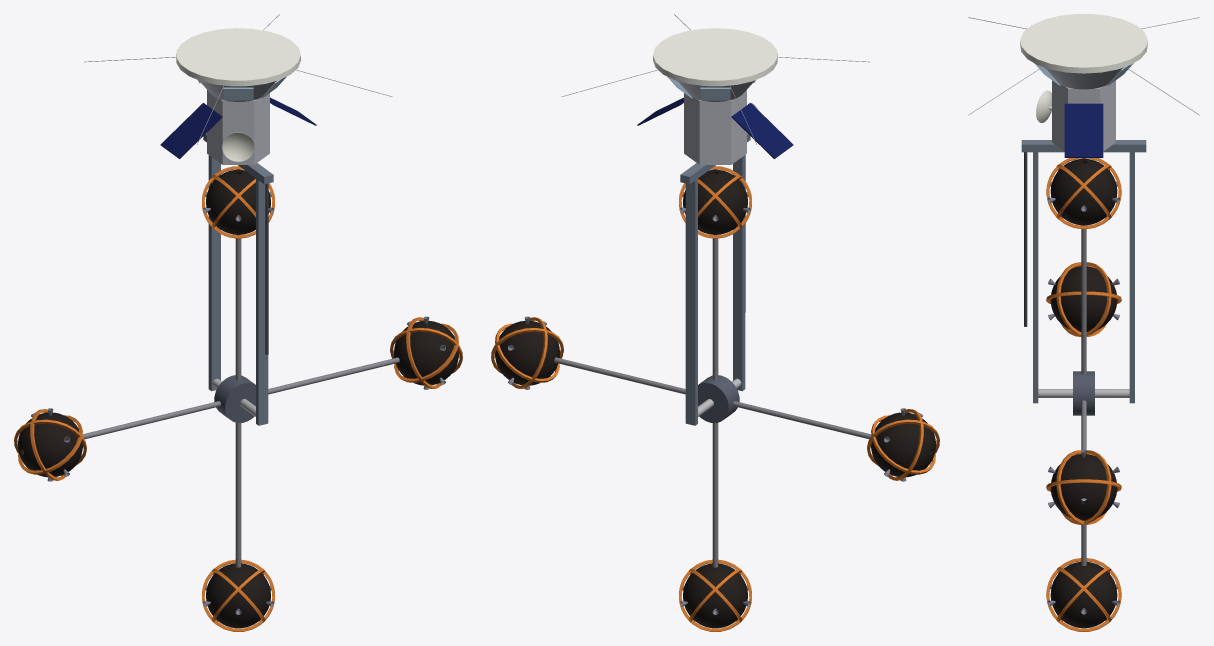
Rendered from suntan.glb.
The picture shows the model from 3 angles, left to right: view 1: azimuth 30°, elevation 25°; view 2: azimuth 150°, elevation 25°; view 3: azimuth 270°, elevation 25°; orthographic projection. The views are drawn at different scales.
Parts seen in each view (by area): view 1: Ablator shell (×4), TPS heat shield, Yoke, Spoke (×4), Bus, Solar array, Hub, High-gain antenna, Magnet coil, Magnetometer boom; view 2: Ablator shell (×4), TPS heat shield, Yoke, Bus, Spoke (×4), Solar array, Hub, Magnet coil; view 3: Ablator shell (×4), TPS heat shield, Yoke, Magnet coil (×7), Bus, Solar array, TPS truss, Hub, Spoke, Magnetometer boom, Axle, High-gain antenna.
Part boxes in pixels (left/top/right/bottom): Ablator shell (×4): left=18, top=169, right=458, bottom=628; TPS heat shield: left=176, top=28, right=300, bottom=86; Yoke: left=203, top=133, right=273, bottom=425; Spoke (×4): left=82, top=234, right=399, bottom=567; Bus: left=207, top=90, right=269, bottom=164; Solar array: left=160, top=103, right=222, bottom=158; Hub: left=214, top=375, right=255, bottom=422; High-gain antenna: left=222, top=132, right=254, bottom=161; Magnet coil: left=202, top=559, right=274, bottom=631; Magnetometer boom: left=265, top=183, right=268, bottom=354; Ablator shell (×4): left=495, top=169, right=935, bottom=628; TPS heat shield: left=653, top=28, right=777, bottom=86; Yoke: left=680, top=133, right=750, bottom=425; Bus: left=684, top=90, right=746, bottom=164; Spoke (×4): left=554, top=234, right=871, bottom=567; Solar array: left=731, top=103, right=793, bottom=158; Hub: left=698, top=375, right=739, bottom=422; Magnet coil: left=679, top=559, right=751, bottom=631; Ablator shell (×4): left=1050, top=158, right=1117, bottom=628; TPS heat shield: left=1020, top=14, right=1147, bottom=73; Yoke: left=1021, top=140, right=1146, bottom=403; Magnet coil (×7): left=1046, top=158, right=1121, bottom=631; Bus: left=1052, top=80, right=1115, bottom=151; Solar array: left=1064, top=103, right=1103, bottom=157; TPS truss: left=1044, top=67, right=1123, bottom=89; Hub: left=1073, top=371, right=1094, bottom=415; Spoke: left=1081, top=225, right=1086, bottom=374; Magnetometer boom: left=1024, top=152, right=1027, bottom=326; Axle: left=1038, top=389, right=1129, bottom=397; High-gain antenna: left=1036, top=90, right=1051, bottom=122.
Size of the model in its own units: 9.19 by 11.59 by 4.17.
